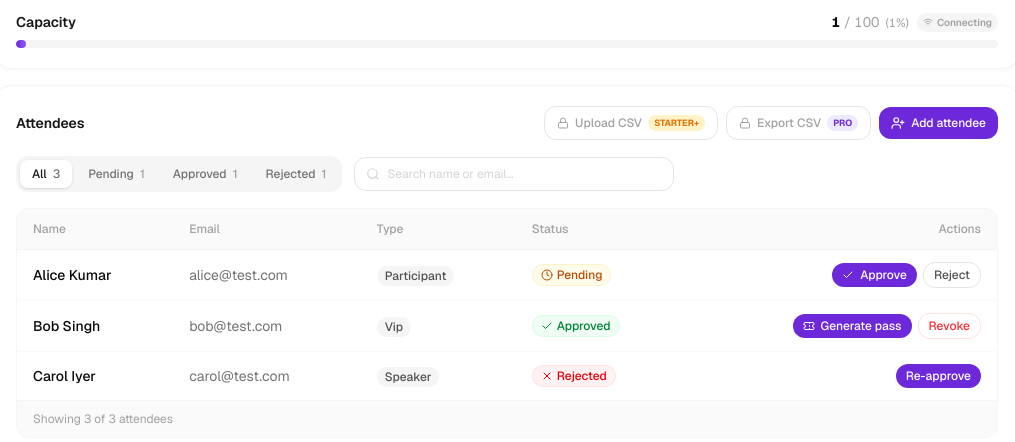
Test: AttendeeTable › filters by search query (name)
Type "alice" into the field with placeholder "Search name or email…". click: (514,174)
box: [354, 157, 674, 191]
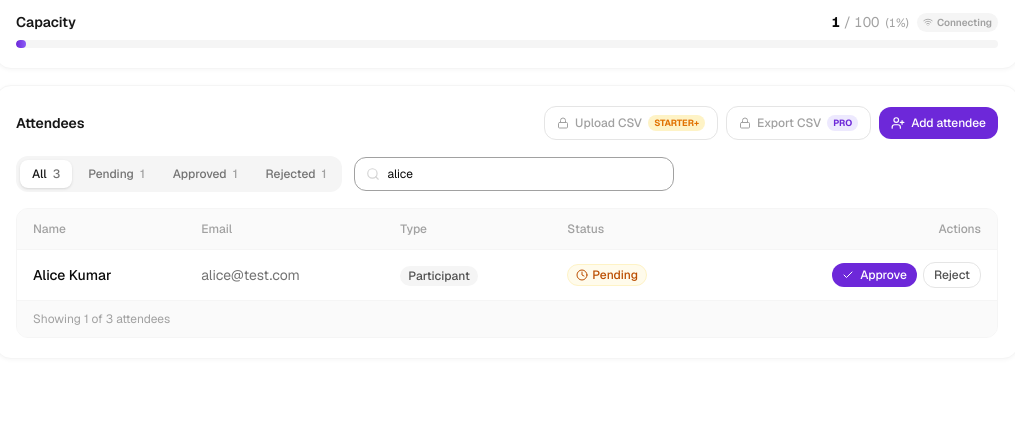
Expected: the text "Alice Kumar" is shown, [33, 266, 111, 284]
Now the text "Bob Singh" is gone
